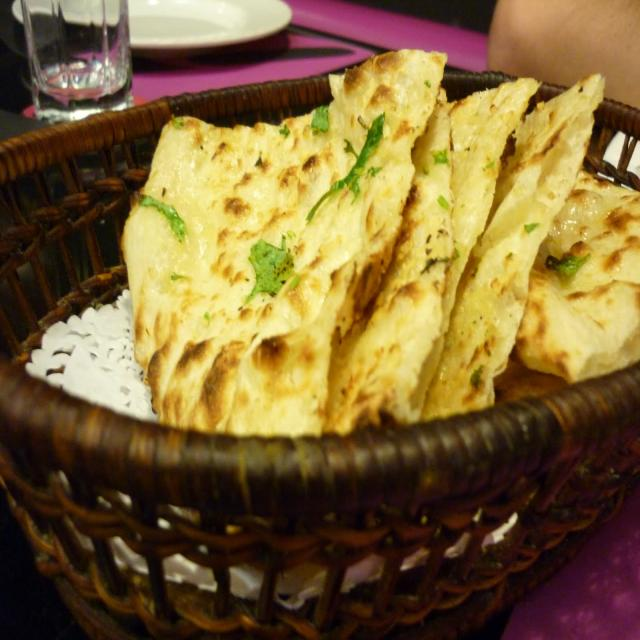butter naan: (128, 47, 638, 435)
